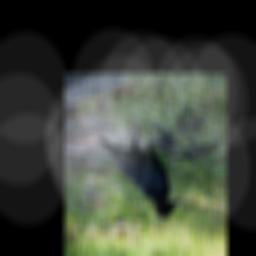Crow: (95, 123, 181, 219)
